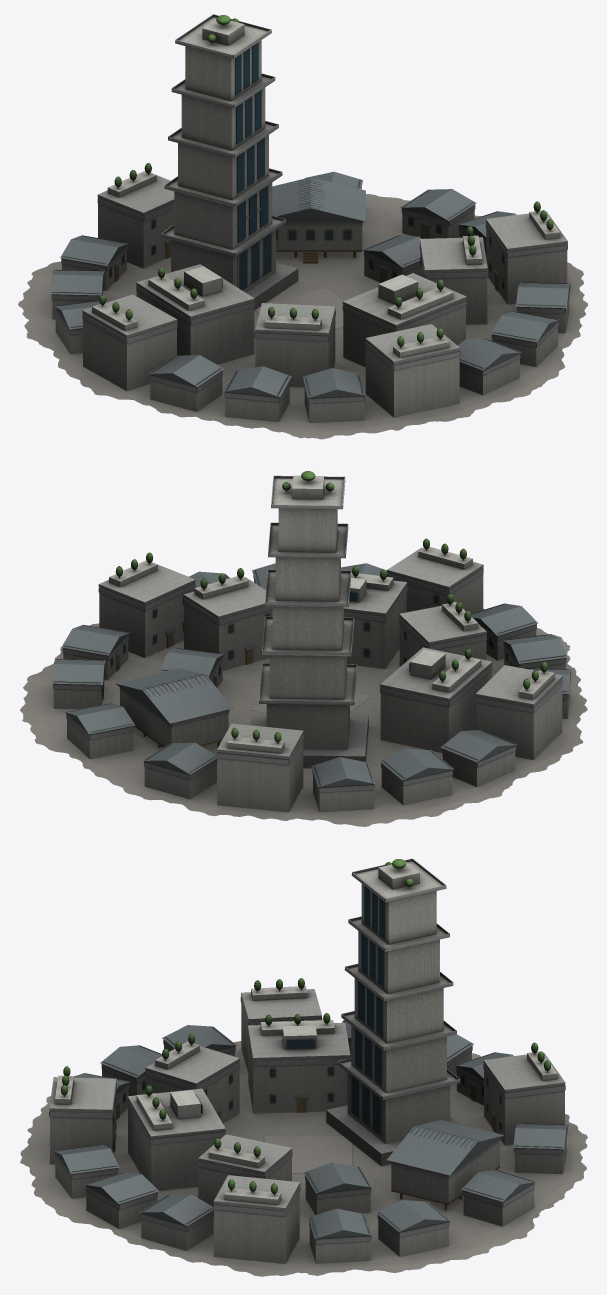
File: modern-town-big-a-monsoon.glb
3 views of the same model, one above another, from view 1: azimuth 30°, elevation 25°; view 2: azimuth 150°, elevation 25°; view 3: azimuth 270°, elevation 25° (orthographic).
Visible parts, largest first — view 1: LOD0; view 2: LOD0; view 3: LOD0.
Boxes of the visible parts, bbox=[...] form: LOD0: bbox=[18, 14, 587, 439]; LOD0: bbox=[20, 471, 587, 826]; LOD0: bbox=[20, 858, 587, 1276].
Size of what is drawn, in the model's own units: 7.96 by 4.16 by 7.89.
Materials: 3 (3 with a texture image).
